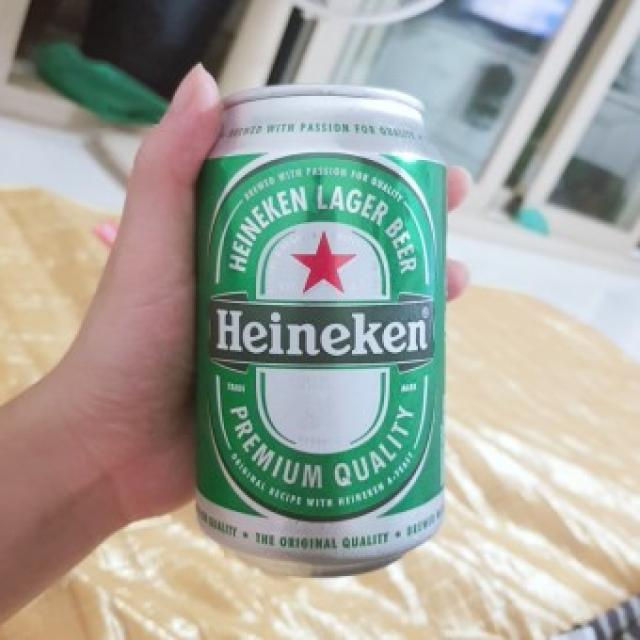can: (194, 83, 446, 578)
